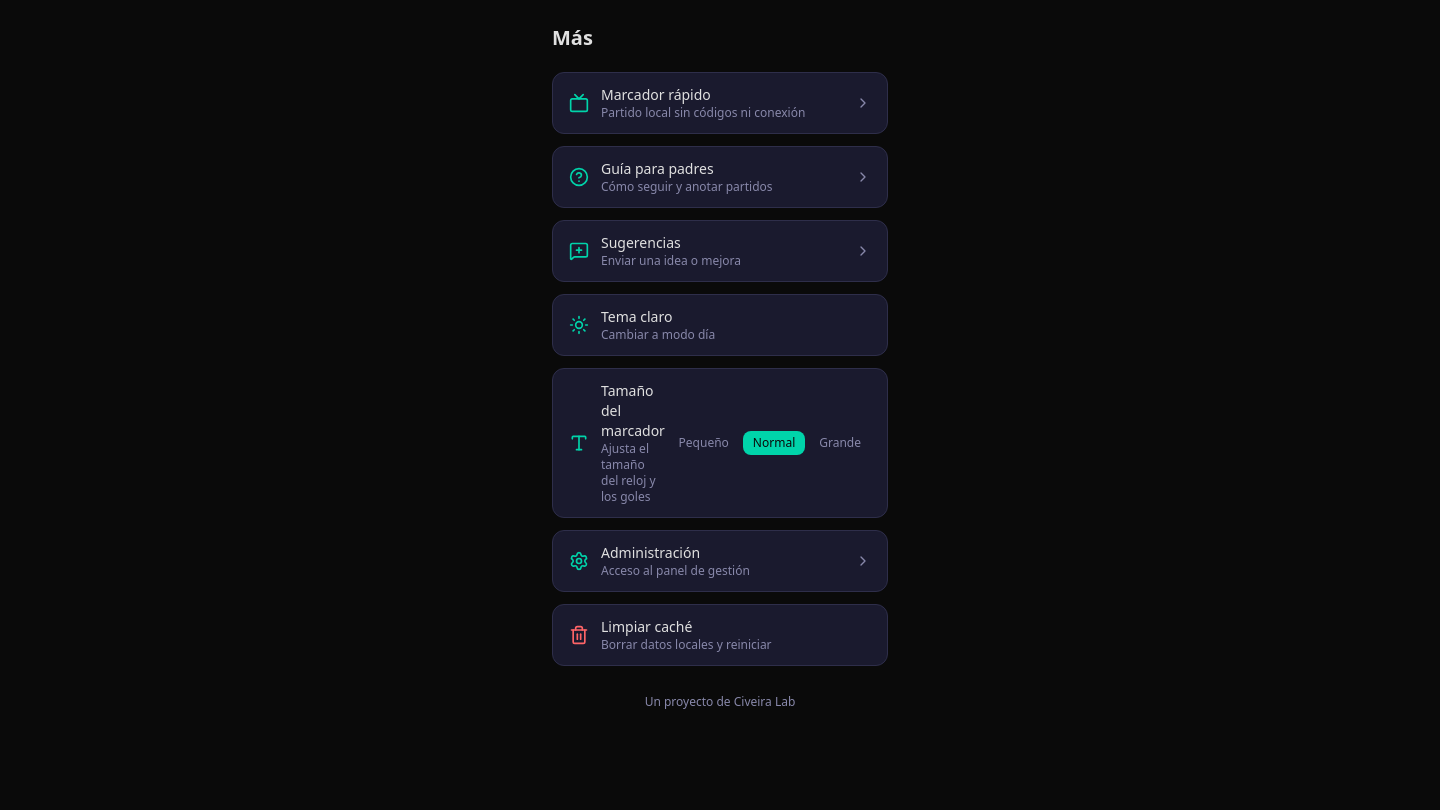
Test: MoreTab › hides confirmation dialog on cancel
Click the button "Limpiar caché Borrar datos locales y reiniciar" at (720, 635), box x1=552 y1=604 x2=888 y2=666
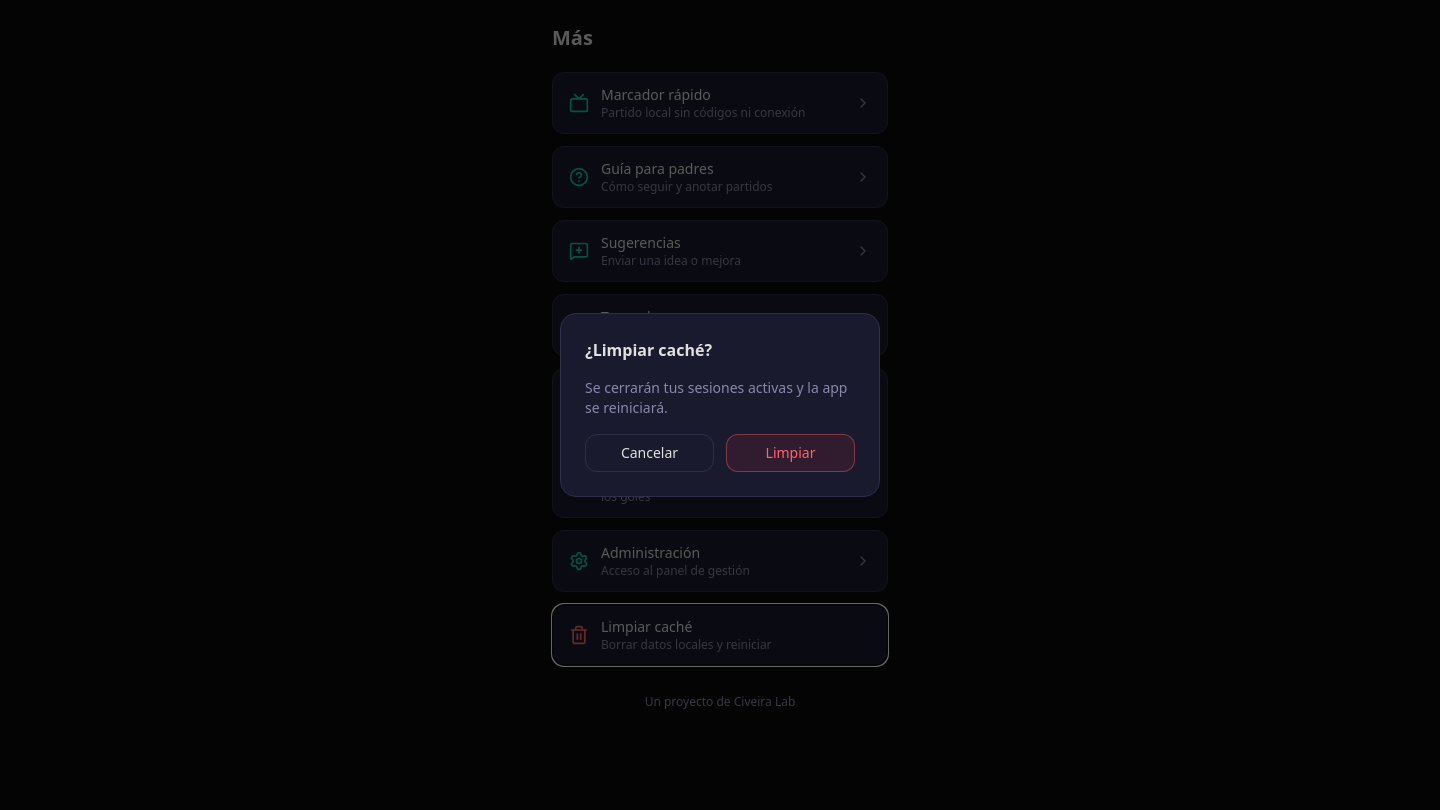
Click the button "Cancelar" at (650, 453), box x1=585 y1=434 x2=714 y2=472
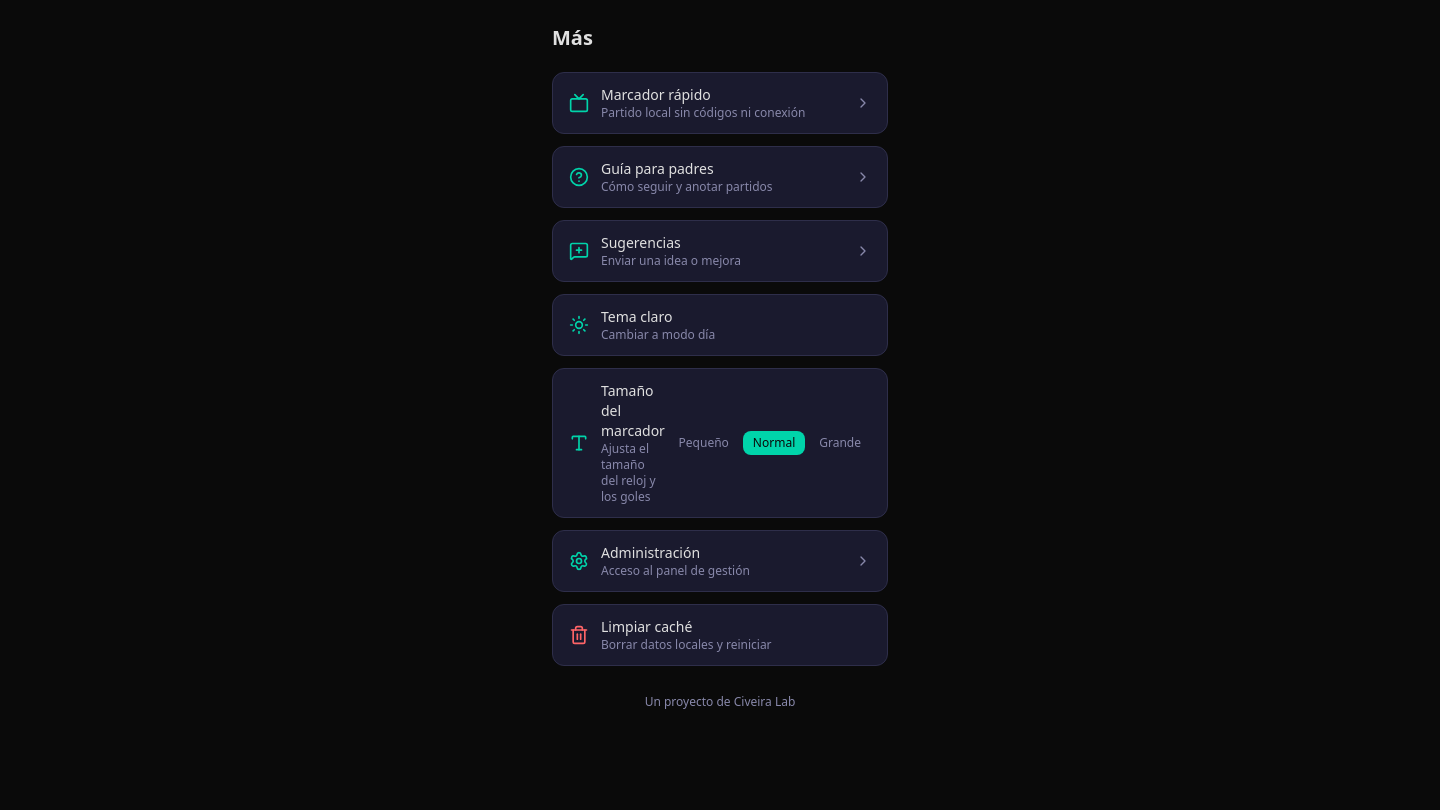
Check: the dialog is gone
